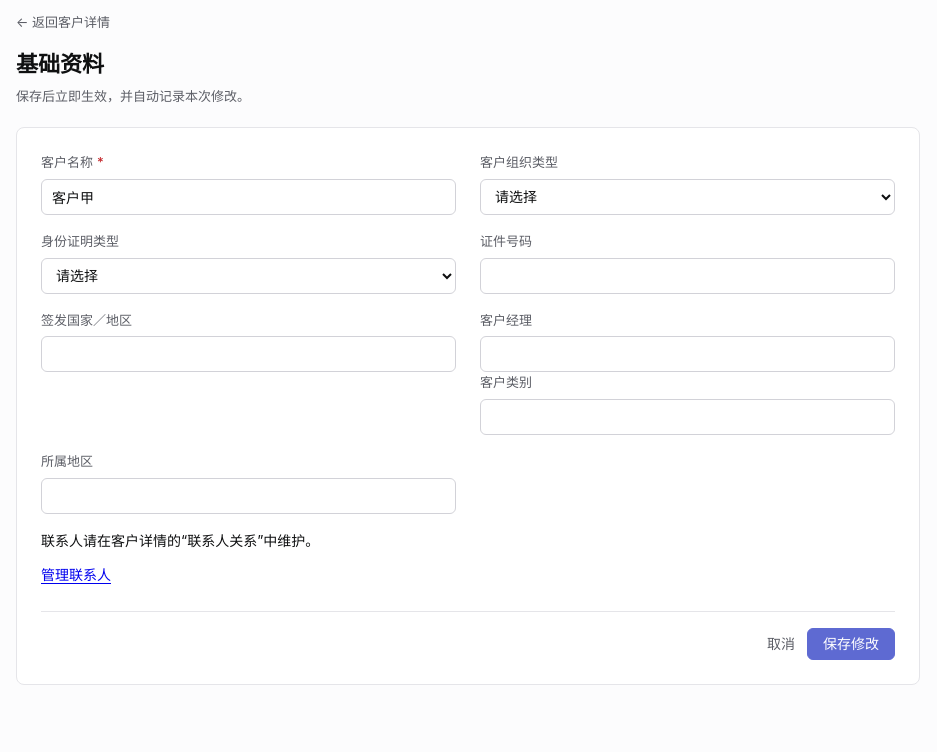
Test case: CustomerEditPage › forwards an actual admitted identity edit and preserves its server rejection without retrying
Replace the text in the field named "name" with "新的主体名称": [248, 197] box [41,179,456,215]
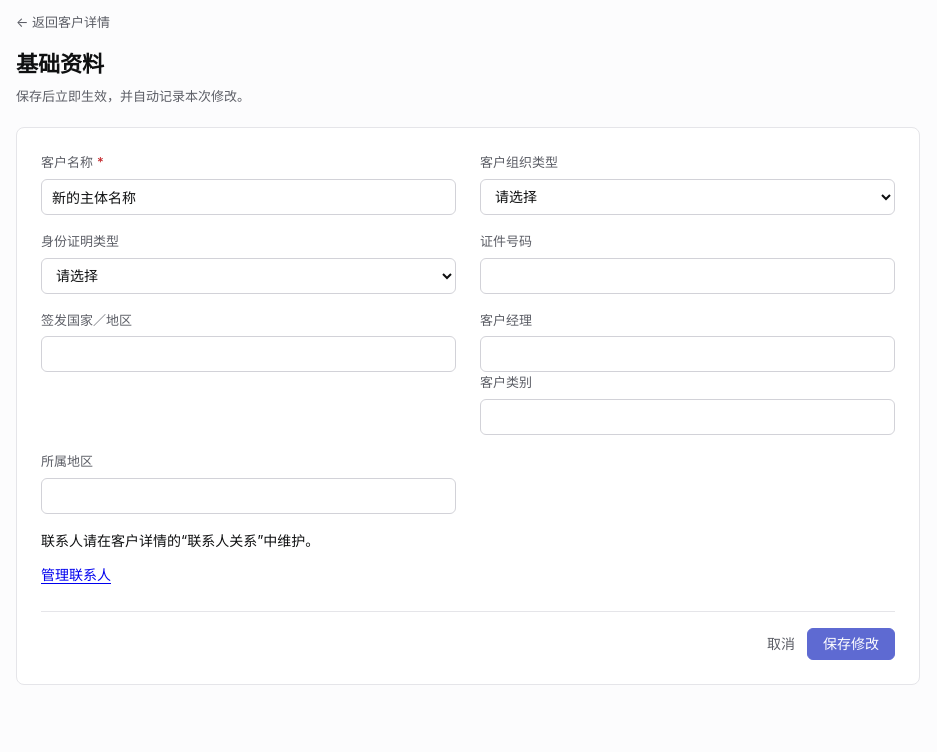
Submit the form
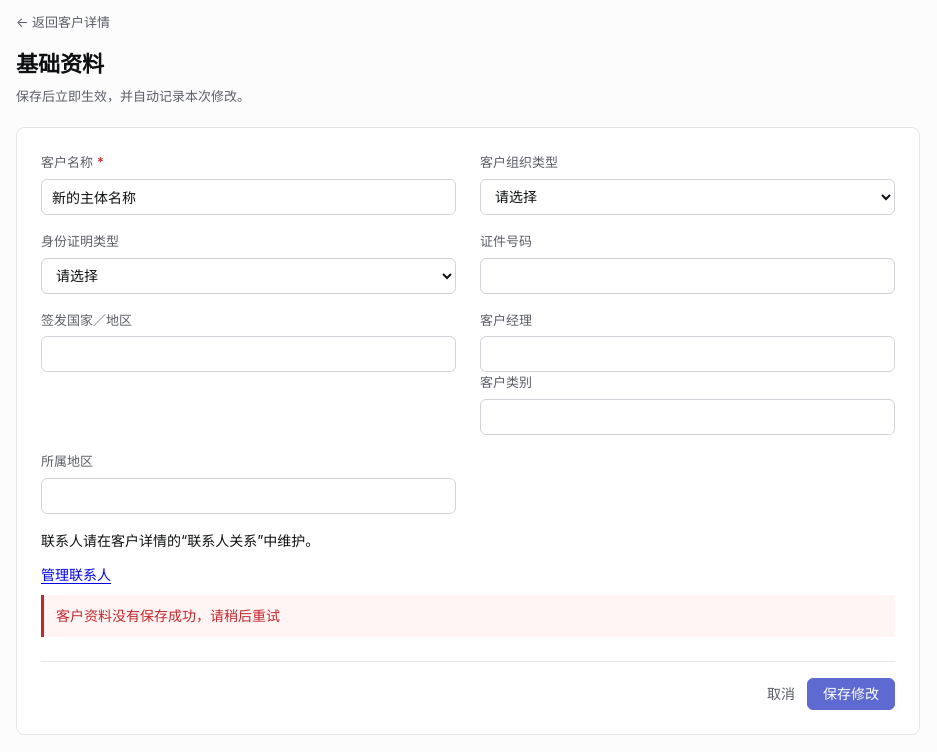
Expected: the text "客户资料没有保存成功" is shown, [56,607,280,624]
